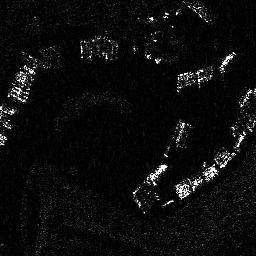ship: (174, 120, 194, 148), (148, 163, 167, 183), (219, 50, 235, 72)
